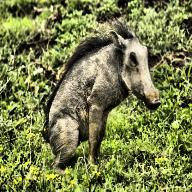boar: (41, 8, 161, 176)
